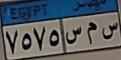5: (48, 27, 60, 48), (21, 31, 32, 53)
7: (32, 24, 47, 52), (5, 30, 20, 55)
meem: (85, 18, 98, 47)
seen: (101, 23, 119, 43), (65, 25, 83, 45)
